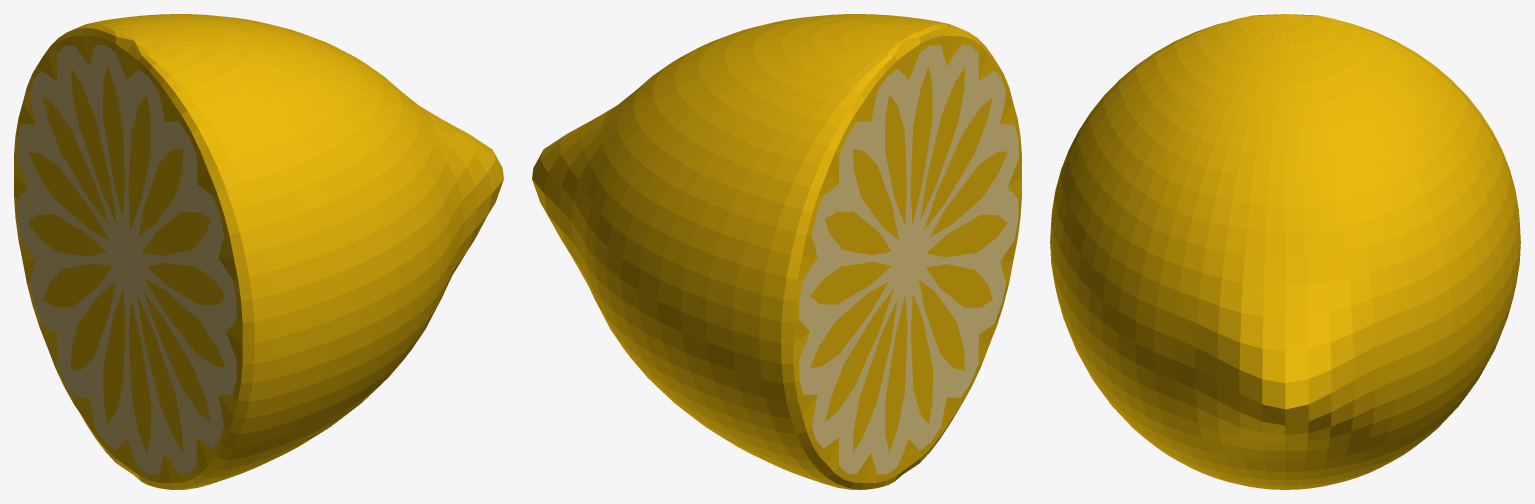
File: LemonRight.fbx
The picture shows the model from 3 angles, left to right: view 1: azimuth 30°, elevation 25°; view 2: azimuth 150°, elevation 25°; view 3: azimuth 270°, elevation 25°; orthographic projection.
Parts seen in each view (by area): view 1: Сфера.001; view 2: Сфера.001; view 3: Сфера.001.
Boxes of the visible parts, <box> form: Сфера.001: <box>14,14,503,489</box>; Сфера.001: <box>532,14,1021,489</box>; Сфера.001: <box>1050,14,1520,489</box>.
Bounding box in the file's own units: 360 × 398 × 393.
